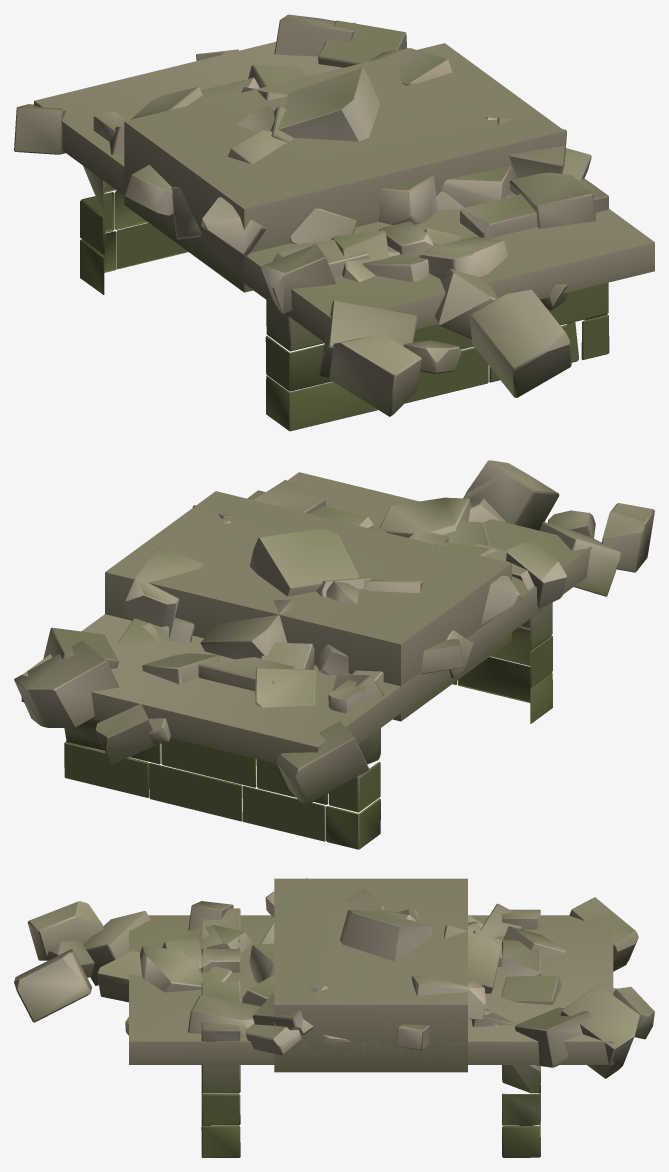
The model's file is citadel_rubble.glb.
3 views of the same model, one above another, from view 1: azimuth 30°, elevation 25°; view 2: azimuth 150°, elevation 25°; view 3: azimuth 270°, elevation 25° (orthographic). The views are drawn at different scales.
Parts seen in each view (by area): view 1: citadel_rubble, citadel_rubble_far; view 2: citadel_rubble, citadel_rubble_far; view 3: citadel_rubble, citadel_rubble_far.
Part boxes in pixels (x1,y1,x2,y2): citadel_rubble: [14, 14, 609, 431]; citadel_rubble_far: [34, 22, 654, 342]; citadel_rubble: [14, 460, 654, 849]; citadel_rubble_far: [21, 472, 592, 763]; citadel_rubble: [14, 878, 654, 1157]; citadel_rubble_far: [129, 878, 613, 1072].
Bounding box in the file's own units: 22.33 × 12.53 × 39.7.
